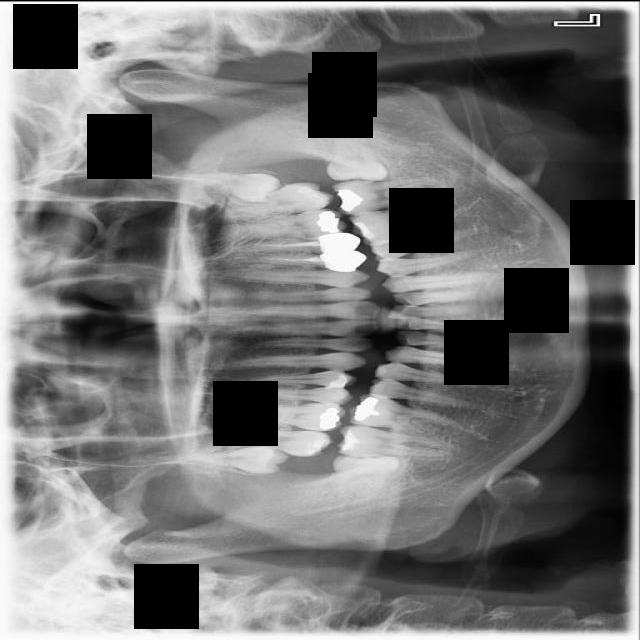3M ESPE Implant: (193, 443, 291, 474)
52: (347, 200, 405, 251), (330, 173, 382, 220), (295, 201, 349, 244), (347, 390, 404, 429), (335, 420, 387, 462), (296, 402, 347, 430), (319, 228, 363, 256), (325, 249, 368, 272), (320, 368, 356, 387)
73: (247, 235, 322, 256), (258, 253, 326, 270), (540, 31, 564, 43)
BioHorizons Implant: (190, 177, 336, 225)
BioLife Implant: (183, 173, 282, 201)
Biomet 3i Implant: (325, 134, 391, 183)
Blue Sky Bio Implant: (331, 175, 440, 216)
Caries: (204, 425, 333, 458)
Implant: (335, 423, 452, 464)
Keystone Dental Implant: (332, 453, 400, 499)
